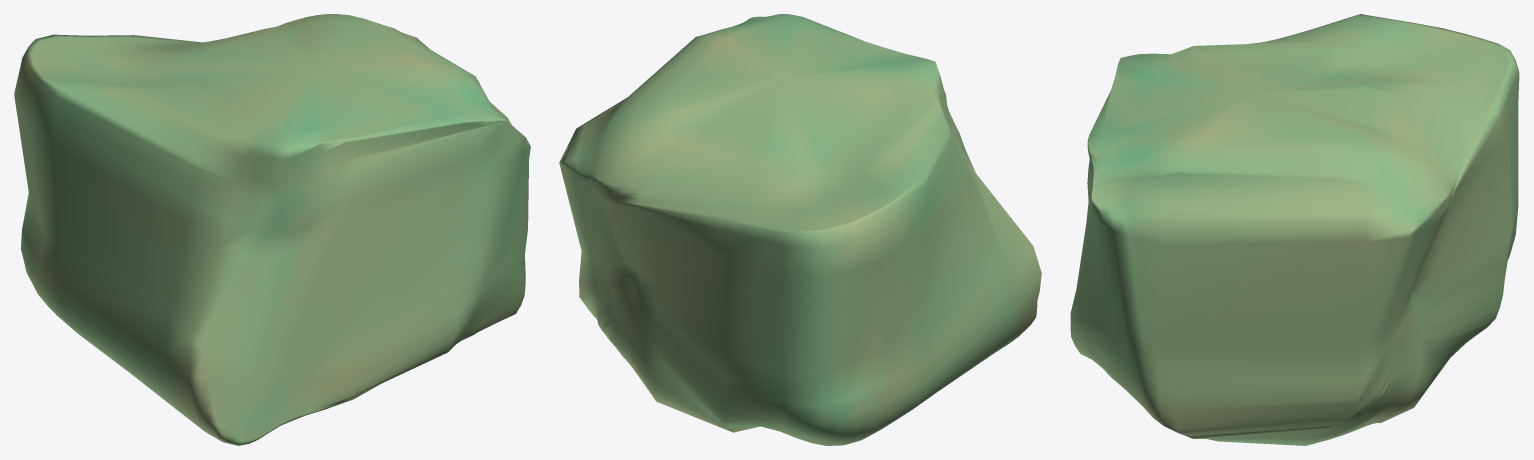
Rendered from SM_Rock_11.glb.
The picture shows the model from 3 angles, left to right: view 1: azimuth 30°, elevation 25°; view 2: azimuth 150°, elevation 25°; view 3: azimuth 270°, elevation 25°; orthographic projection. The views are drawn at different scales.
Visible parts, largest first — view 1: SM_Rock_11; view 2: SM_Rock_11; view 3: SM_Rock_11.
Part boxes in pixels (x1,y1,x2,y2): SM_Rock_11: (14, 14, 530, 445); SM_Rock_11: (559, 14, 1041, 445); SM_Rock_11: (1070, 14, 1519, 445).
Bounding box in the file's own units: 0.7688 × 0.625 × 0.8025.
